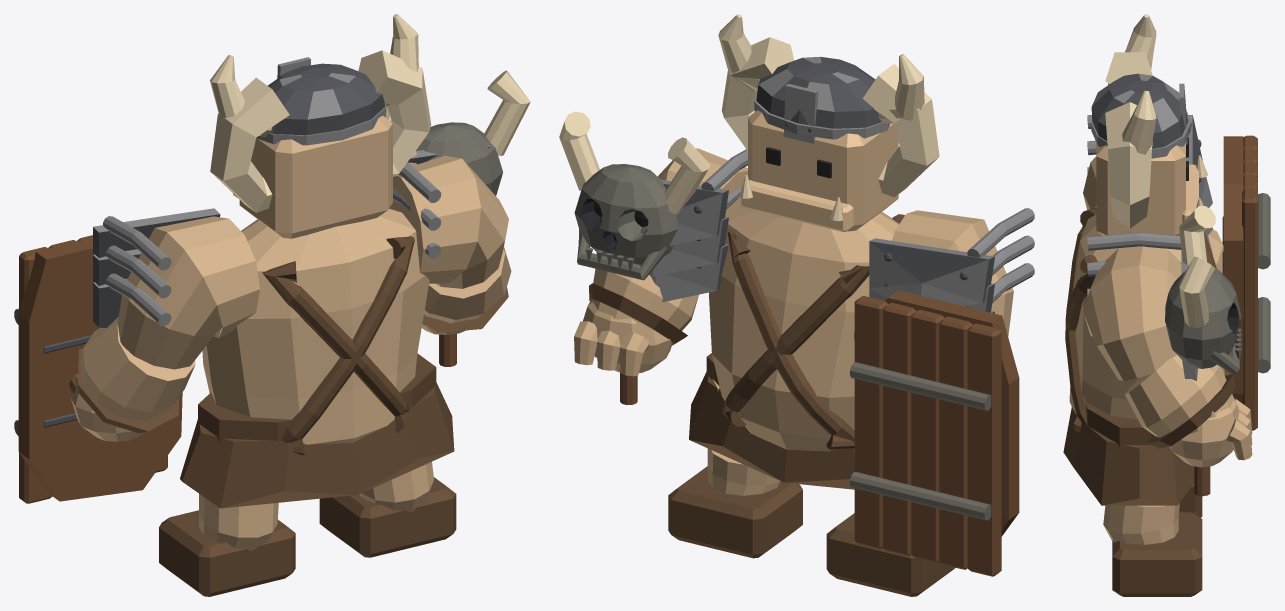
The model's file is host_10.glb.
The picture shows the model from 3 angles, left to right: view 1: azimuth 30°, elevation 25°; view 2: azimuth 150°, elevation 25°; view 3: azimuth 270°, elevation 25°; orthographic projection. The views are drawn at different scales.
Parts seen in each view (by area): view 1: V6 source anatomical thorax, V6 gatebreaker weathered wooden door actual shield body, Leather ragged skirt, V6 source anatomical upper arm L, Observed face, V6 source anatomical upper arm R, Grounded boot L, Grounded boot R, V6 source anatomical forearm L, V6 source fitted rounded metal cap helmet shell, Curved segmented ram horn, V6 gatebreaker source fitted crossed leather torso strap.003 (+22 smaller); view 2: V6 source anatomical thorax, Observed face, Grounded boot R, V6 gatebreaker individual contacting worn wood door slat, V6 gatebreaker actual carved iron skull mace actual carved c, Leather ragged skirt, V6 gatebreaker individual contacting worn wood door slat.001, V6 gatebreaker individual contacting worn wood door slat.004, V6 gatebreaker individual contacting worn wood door slat.002, V6 gatebreaker individual contacting worn wood door slat.003, V6 source angled fitted shoulder plate L, V6 source fitted rounded metal cap helmet shell (+32 smaller); view 3: V6 source anatomical upper arm R, Leather ragged skirt, Grounded boot R, V6 source anatomical forearm R, Observed face, V6 gatebreaker actual carved iron skull mace actual carved c, V6 source anatomical thorax, Curved segmented ram horn.001, V6 gatebreaker weathered wooden door actual shield body, V6 source fitted rounded metal cap helmet shell, V6 gatebreaker individual contacting worn wood door slat.004, V6 source anatomical shin R (+22 smaller).
Part boxes in pixels (x1=…): V6 source anatomical thorax: x1=202, y1=208, x2=429, y2=444; V6 gatebreaker weathered wooden door actual shield body: x1=18, y1=238, x2=182, y2=501; Leather ragged skirt: x1=180, y1=382, x2=454, y2=508; V6 source anatomical upper arm L: x1=117, y1=216, x2=259, y2=369; Observed face: x1=239, y1=115, x2=392, y2=238; V6 source anatomical upper arm R: x1=389, y1=155, x2=508, y2=288; Grounded boot L: x1=159, y1=510, x2=295, y2=596; Grounded boot R: x1=319, y1=477, x2=456, y2=557; V6 source anatomical forearm L: x1=80, y1=317, x2=195, y2=427; V6 source fitted rounded metal cap helmet shell: x1=268, y1=63, x2=384, y2=135; Curved segmented ram horn: x1=210, y1=77, x2=289, y2=212; V6 gatebreaker source fitted crossed leather torso strap.003: x1=281, y1=236, x2=414, y2=455; V6 source anatomical thorax: x1=709, y1=204, x2=898, y2=451; Observed face: x1=748, y1=110, x2=898, y2=231; Grounded boot R: x1=668, y1=466, x2=802, y2=558; V6 gatebreaker individual contacting worn wood door slat: x1=967, y1=323, x2=1001, y2=576; V6 gatebreaker actual carved iron skull mace actual carved c: x1=574, y1=164, x2=677, y2=264; Leather ragged skirt: x1=689, y1=372, x2=854, y2=489; V6 gatebreaker individual contacting worn wood door slat.001: x1=939, y1=316, x2=972, y2=569; V6 gatebreaker individual contacting worn wood door slat.004: x1=854, y1=296, x2=887, y2=548; V6 gatebreaker individual contacting worn wood door slat.002: x1=911, y1=309, x2=944, y2=562; V6 gatebreaker individual contacting worn wood door slat.003: x1=883, y1=303, x2=916, y2=555; V6 source angled fitted shoulder plate L: x1=869, y1=238, x2=994, y2=306; V6 source fitted rounded metal cap helmet shell: x1=756, y1=56, x2=881, y2=128; V6 source anatomical upper arm R: x1=1083, y1=246, x2=1181, y2=380; Leather ragged skirt: x1=1063, y1=407, x2=1194, y2=505; Grounded boot R: x1=1112, y1=512, x2=1202, y2=596; V6 source anatomical forearm R: x1=1125, y1=355, x2=1234, y2=448; Observed face: x1=1096, y1=142, x2=1185, y2=235; V6 gatebreaker actual carved iron skull mace actual carved c: x1=1165, y1=269, x2=1241, y2=368; V6 source anatomical thorax: x1=1069, y1=214, x2=1224, y2=419; Curved segmented ram horn.001: x1=1105, y1=102, x2=1152, y2=228; V6 gatebreaker weathered wooden door actual shield body: x1=1223, y1=136, x2=1243, y2=402; V6 source fitted rounded metal cap helmet shell: x1=1091, y1=73, x2=1188, y2=148; V6 gatebreaker individual contacting worn wood door slat.004: x1=1242, y1=188, x2=1257, y2=430; V6 source anatomical shin R: x1=1103, y1=503, x2=1179, y2=544.
Size of the model in its own units: 1.91 by 1.97 by 0.758.
